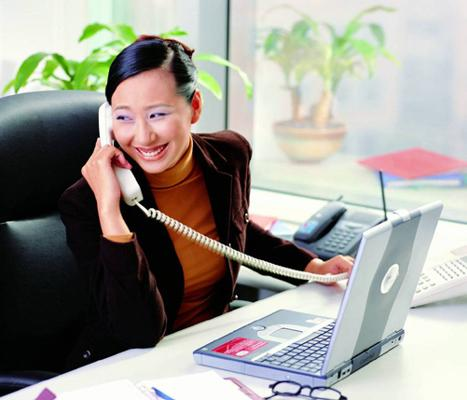person: (59, 35, 358, 371)
